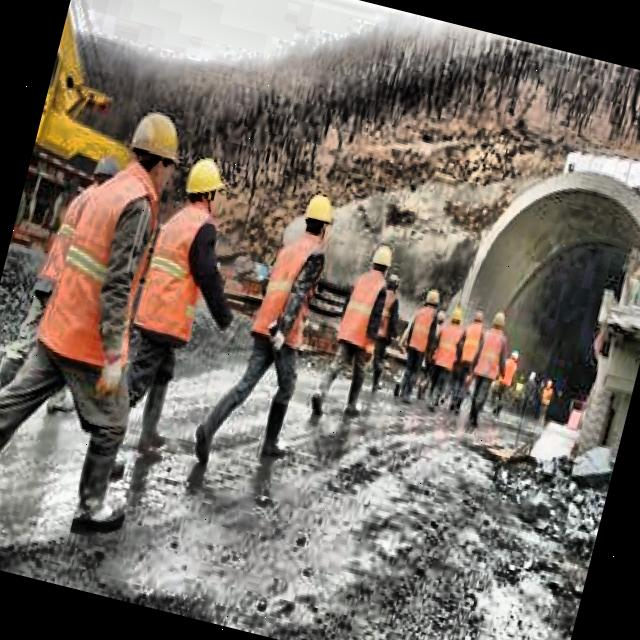helmet: (114, 101, 190, 197), (174, 149, 228, 222), (298, 186, 337, 248), (85, 144, 121, 197), (366, 240, 398, 284), (420, 282, 446, 312), (486, 306, 511, 336), (445, 301, 464, 331)
